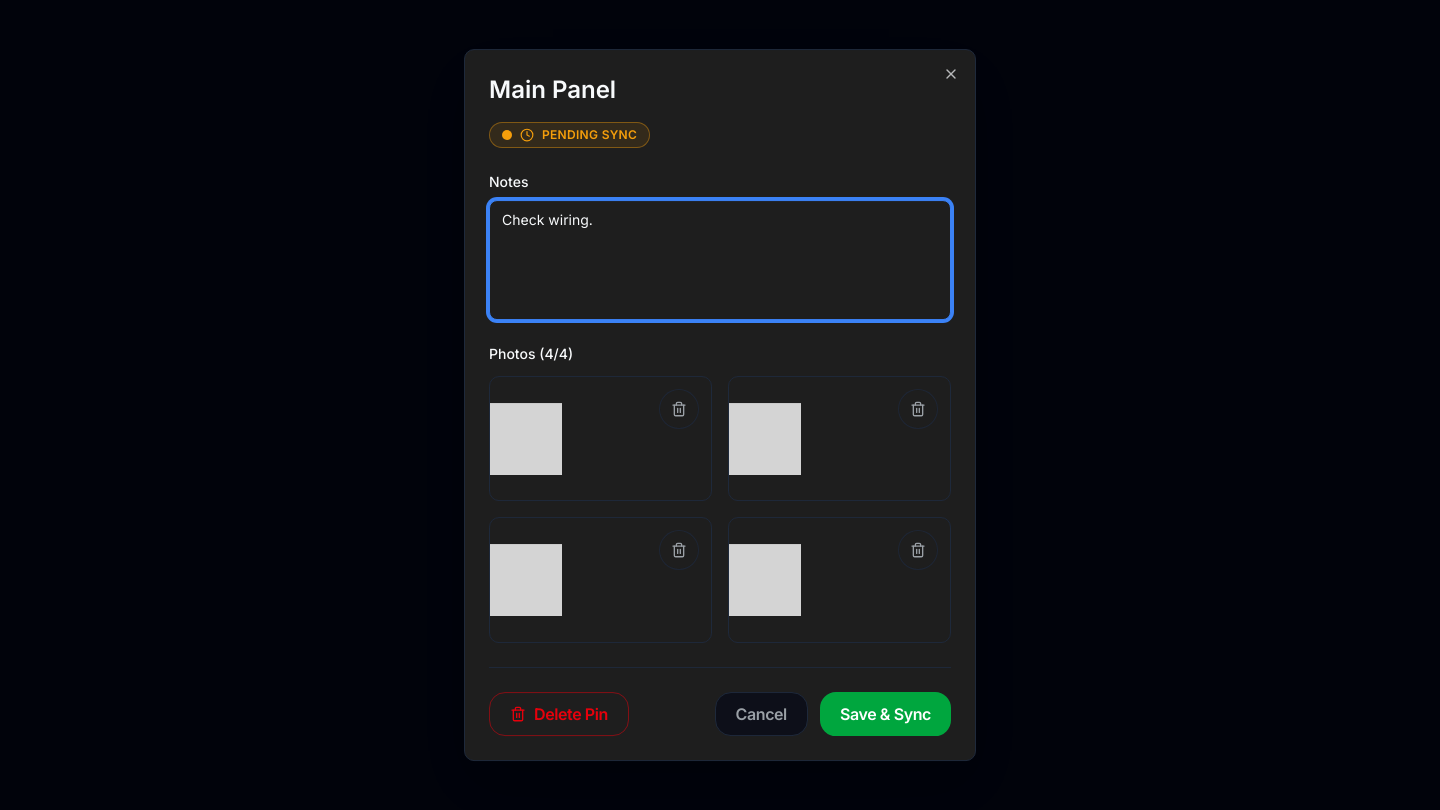
Test: <PinDetailModal /> › surfaces a warning message when Drive removal is deferred
Click the button named "Delete photo 1": x=679, y=409 [659,389,699,429]
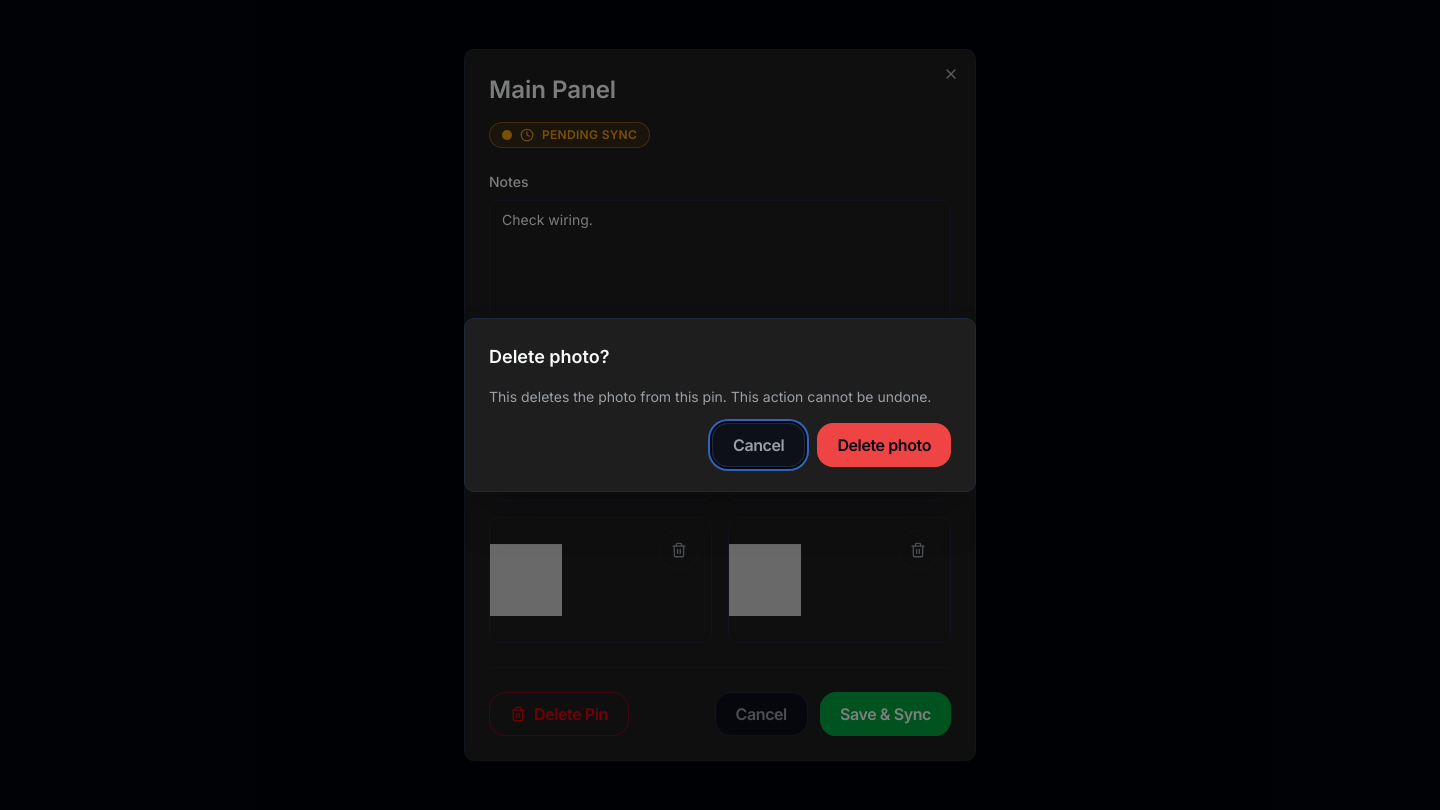
Click the button "Delete photo": x=884, y=445 [817,423,951,467]
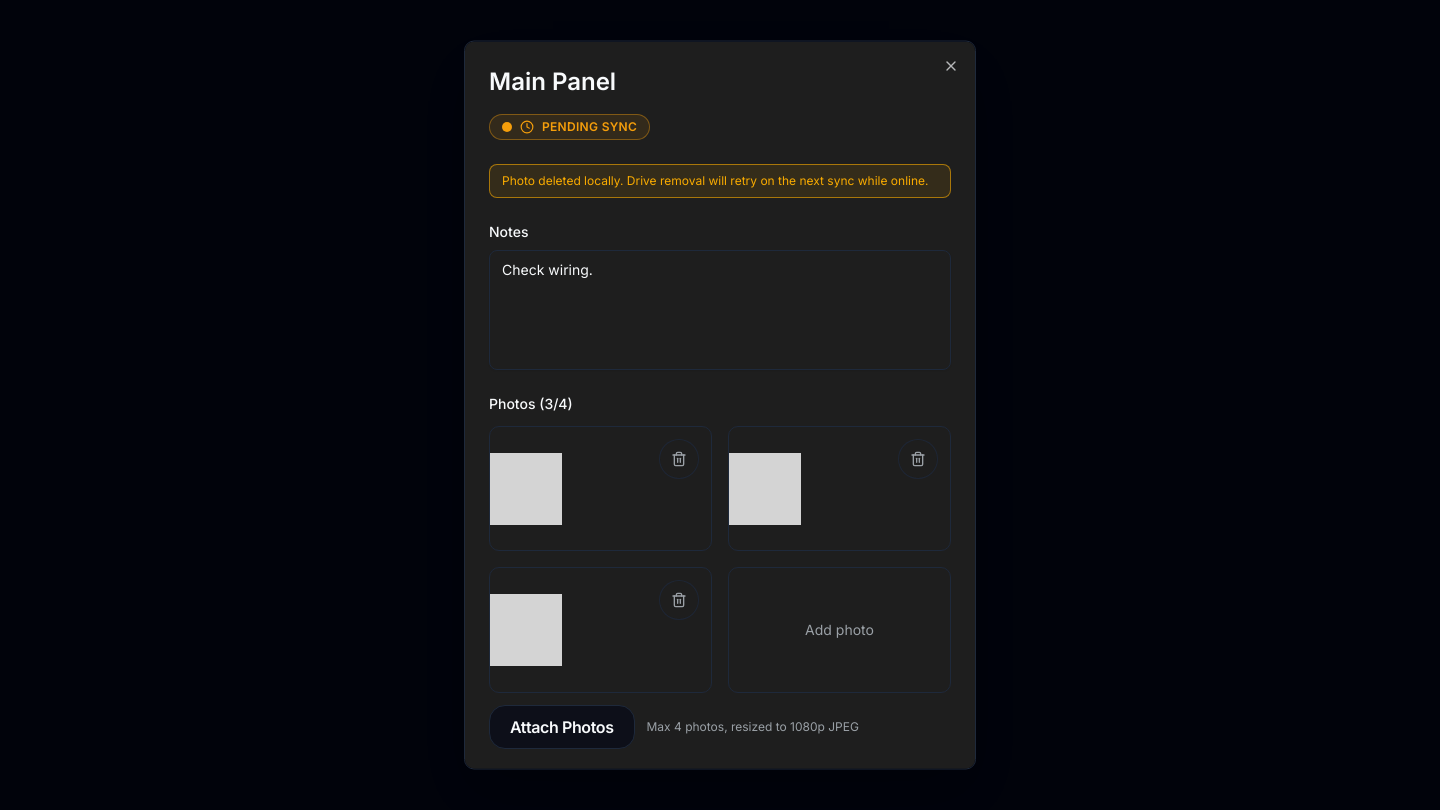
Now the text "Drive removal will retry on the next sync while online" is shown, box [502,172,928,188]
